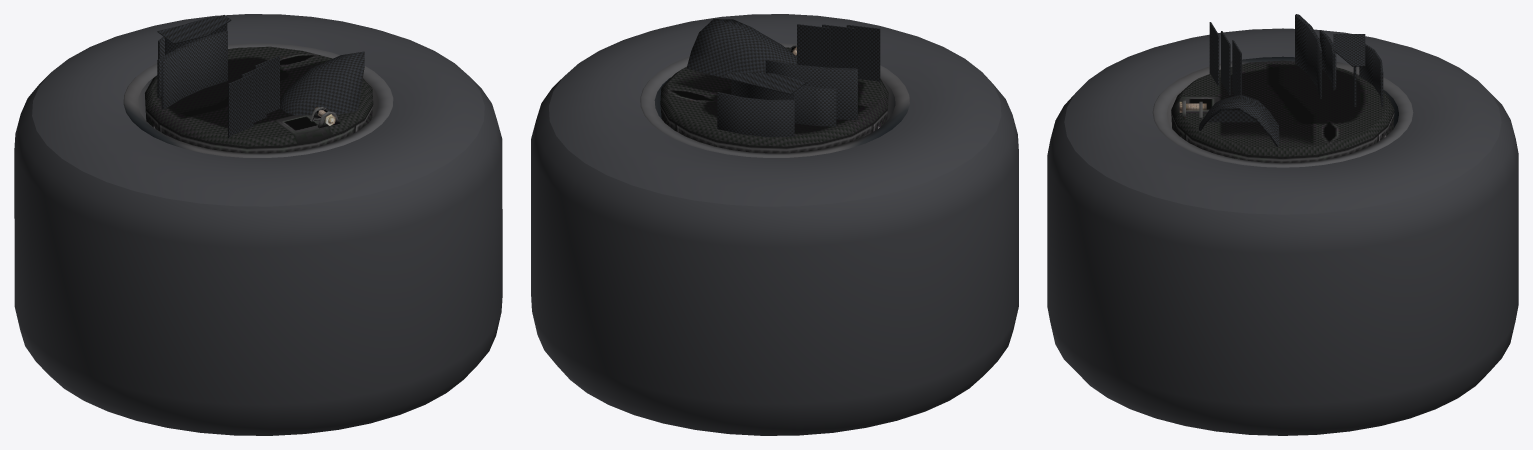
Rendered from wheel.dae.
The picture shows the model from 3 angles, left to right: view 1: azimuth 30°, elevation 25°; view 2: azimuth 150°, elevation 25°; view 3: azimuth 270°, elevation 25°; orthographic projection. The views are drawn at different scales.
Parts seen in each view (by area): view 1: object__50, object__49, object__28, object__18; view 2: object__50, object__49, object__28, object__18; view 3: object__50, object__49, object__28, object__18.
Part boxes in pixels (x1,y1,x2,y2): object__50: [14, 73, 502, 435]; object__49: [32, 14, 484, 206]; object__28: [145, 15, 373, 153]; object__18: [123, 43, 393, 157]; object__50: [531, 73, 1018, 435]; object__49: [549, 14, 1001, 206]; object__28: [660, 19, 888, 153]; object__18: [640, 43, 909, 157]; object__50: [1047, 85, 1518, 435]; object__49: [1064, 28, 1501, 214]; object__28: [1171, 14, 1394, 162]; object__18: [1152, 56, 1413, 167].
Bounding box in the file's own units: 0.6438 × 0.6439 × 0.4555.
Materials: 4 (4 with a texture image).
